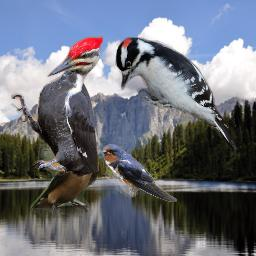Swallow: (30, 141, 98, 219), (101, 144, 177, 202)
Woodpecker: (114, 35, 239, 154), (11, 36, 103, 177)
